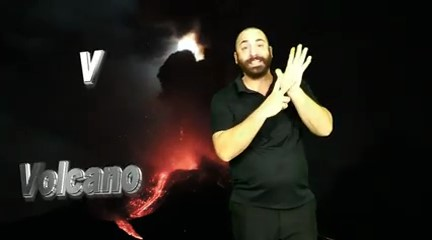V: (265, 40, 316, 117)
